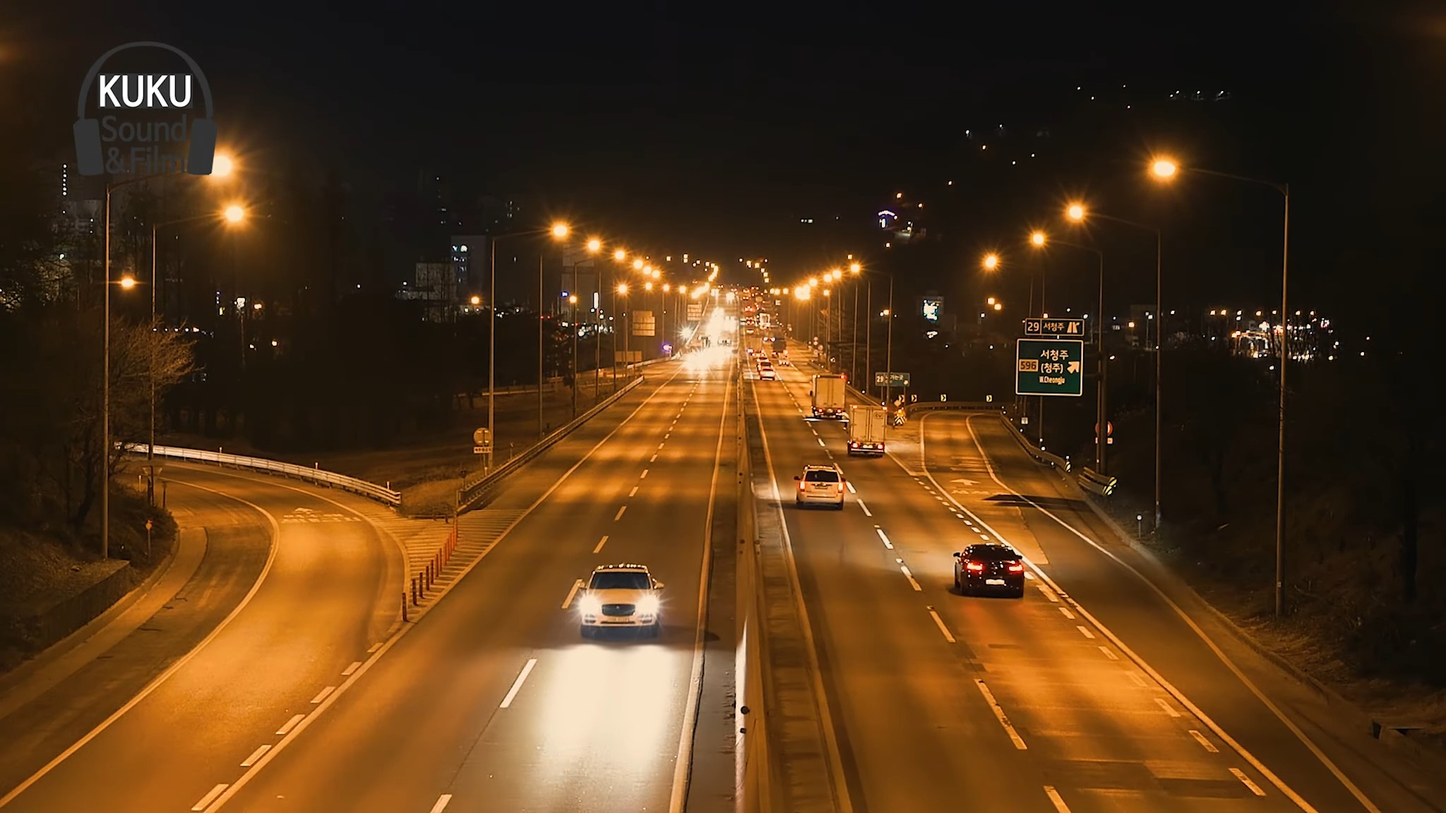car: (576, 567, 664, 638), (954, 538, 1030, 601), (795, 463, 849, 511)
truck: (839, 397, 893, 460), (808, 364, 850, 428)
